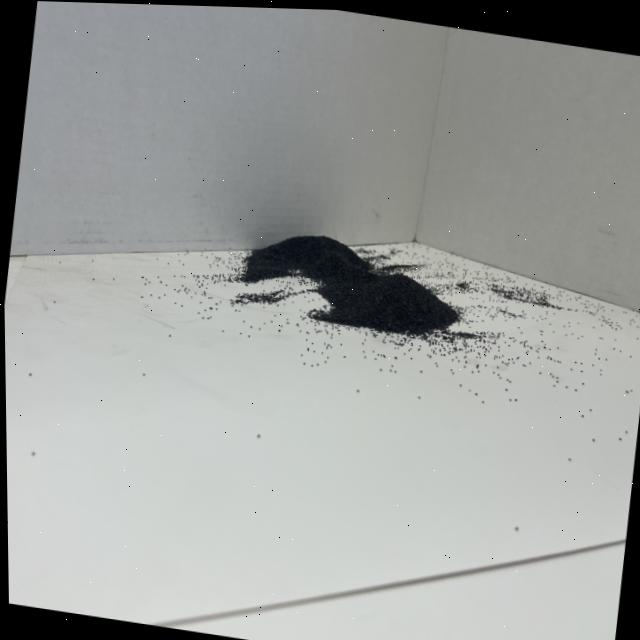Poppy Seeds: (228, 182, 481, 380)
